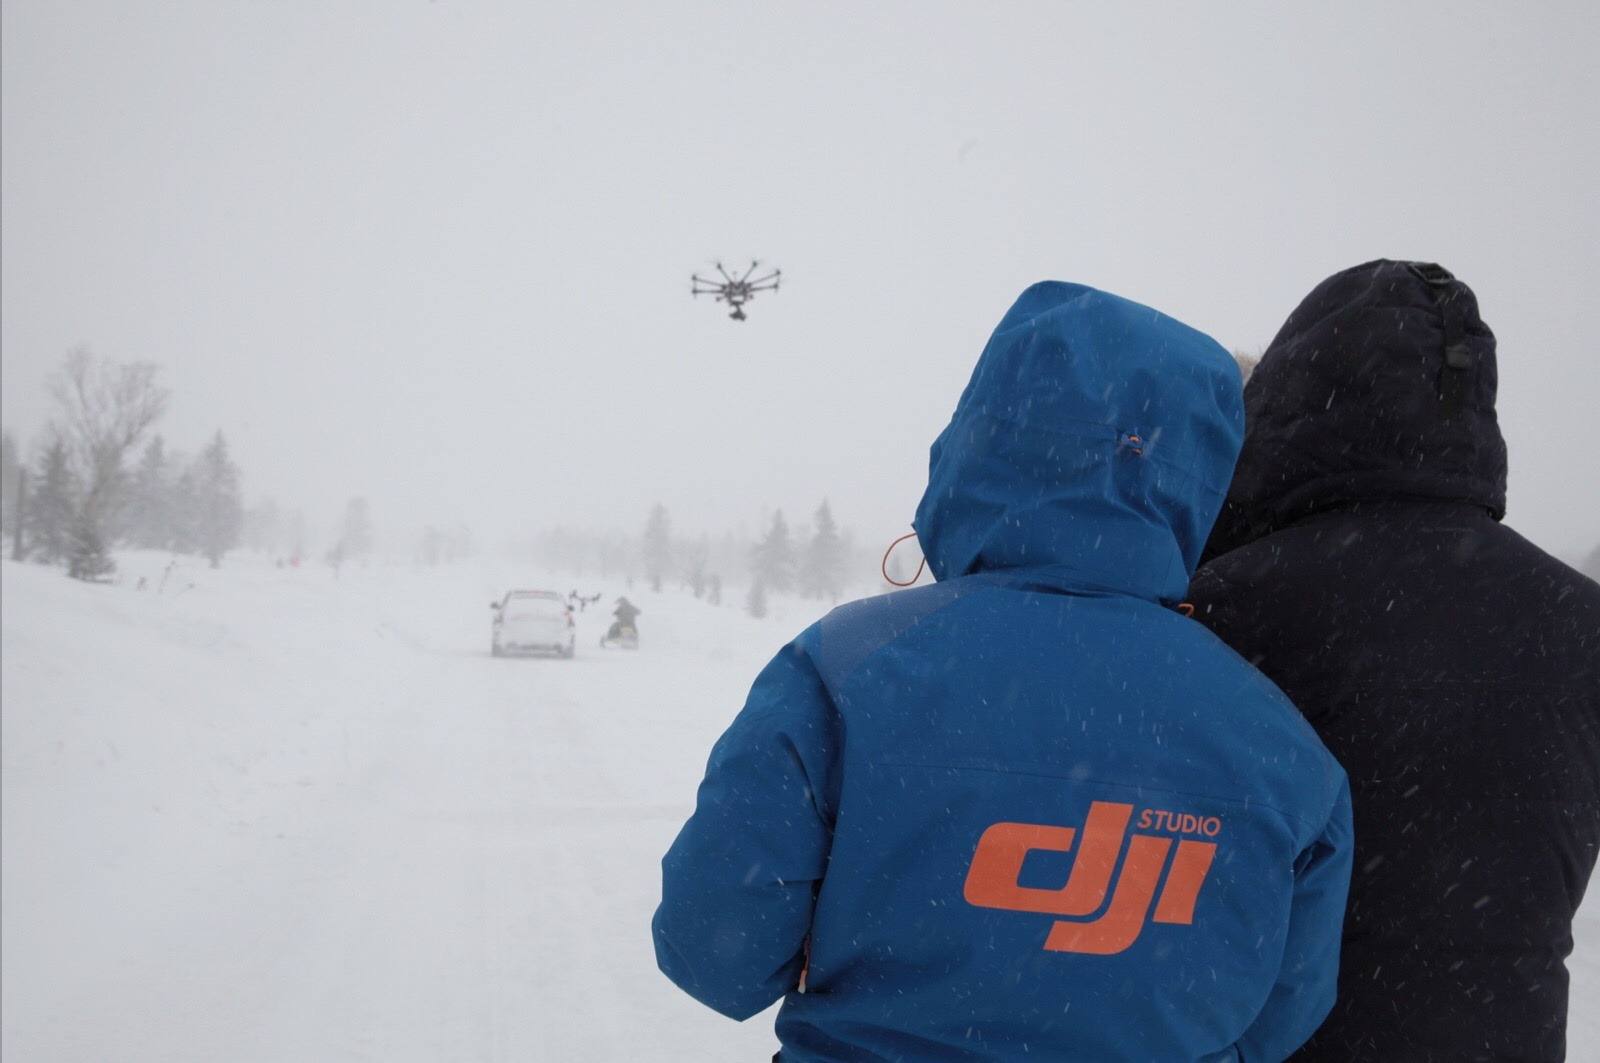DJI: (683, 254, 788, 323)
